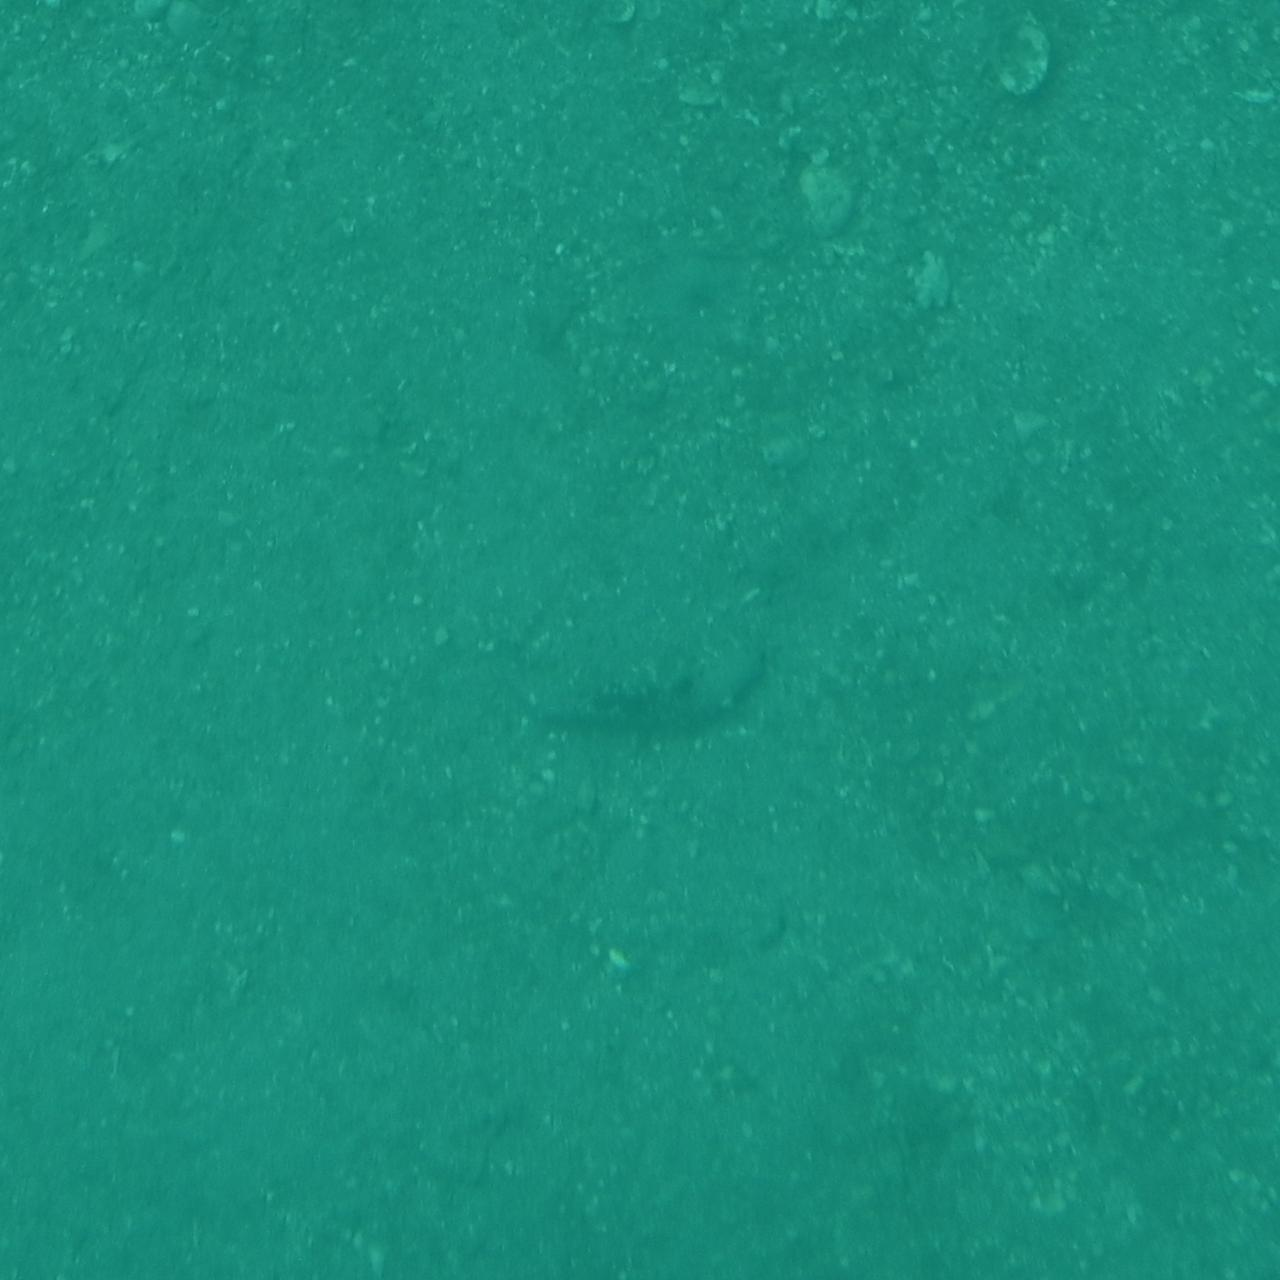Holothuria tubulosa: (512, 610, 768, 754)
